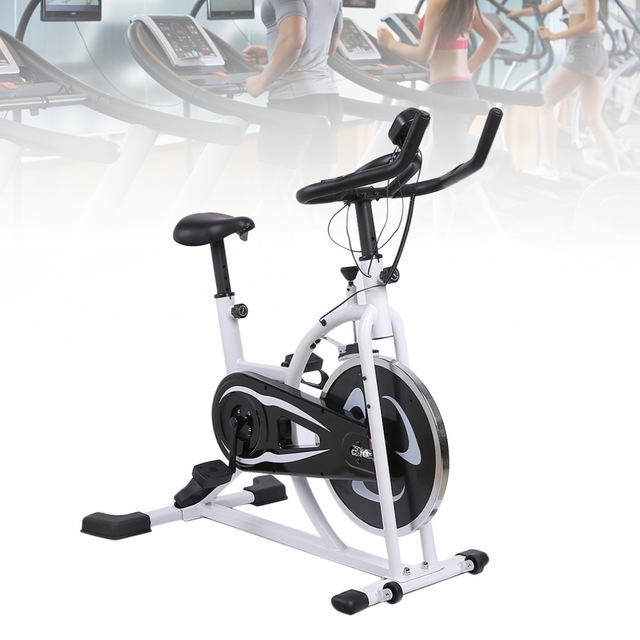gym_bike: (62, 101, 535, 620)
